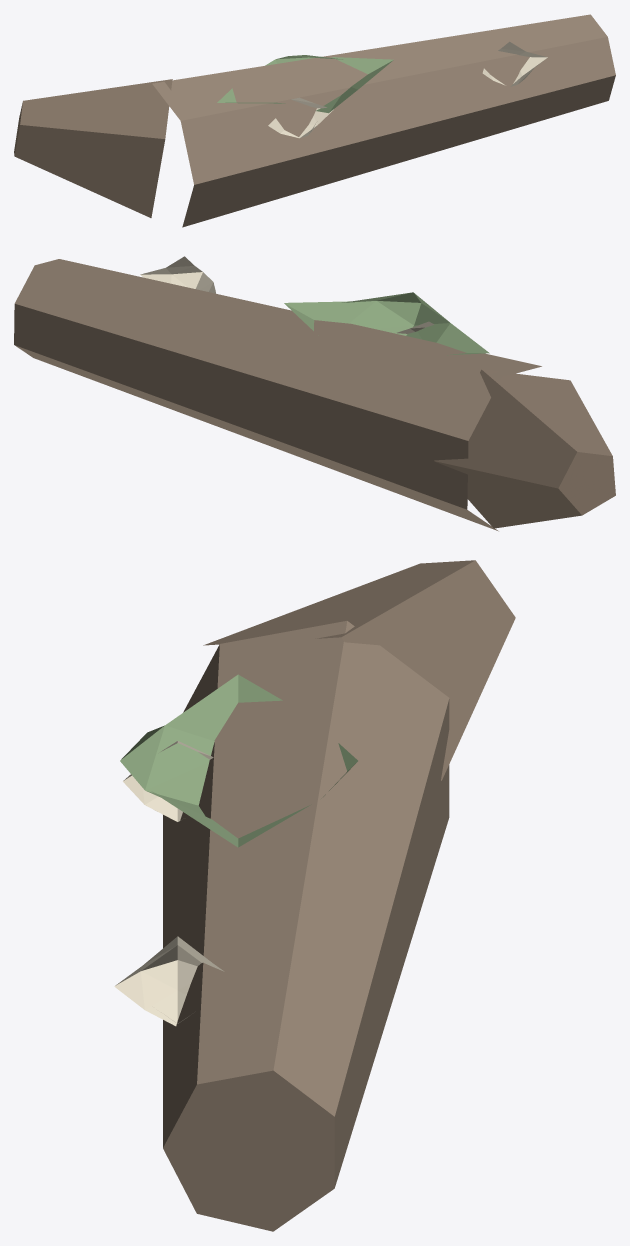
Rendered from log_v18.glb.
The picture shows the model from 3 angles, top to bottom: view 1: azimuth 30°, elevation 25°; view 2: azimuth 150°, elevation 25°; view 3: azimuth 270°, elevation 25°; orthographic projection. The views are drawn at different scales.
Parts seen in each view (by area): view 1: lod0; view 2: lod0; view 3: lod0.
Part boxes in pixels (x1,y1,x2,y2): lod0: (14, 14, 615, 227); lod0: (14, 256, 615, 531); lod0: (114, 560, 515, 1231).
Size of what is drawn, in the model's own units: 2.32 by 0.6191 by 0.745.
